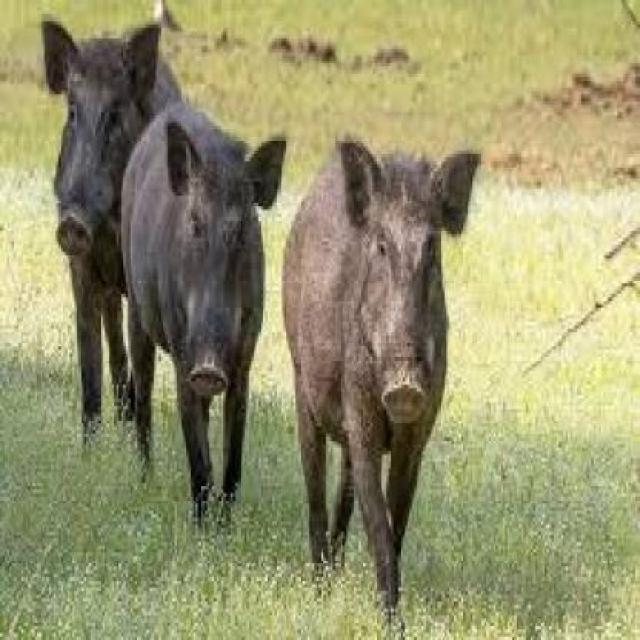wildboar: (279, 127, 486, 640), (113, 94, 290, 538), (39, 10, 192, 461)
